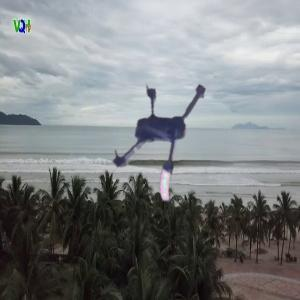drone: (88, 72, 234, 218)
